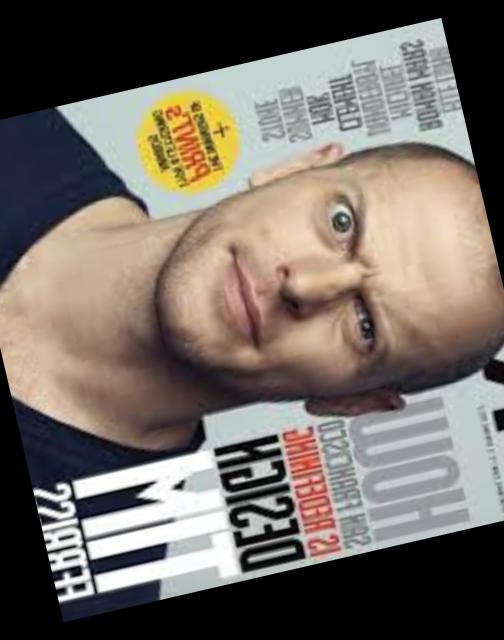cardboard paper: (0, 18, 504, 622)
